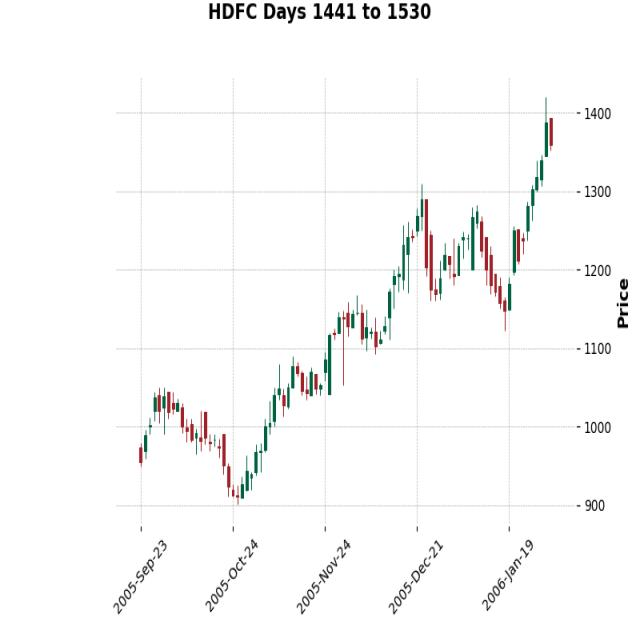Inverse Head and Shoulder: (126, 346, 334, 516)
